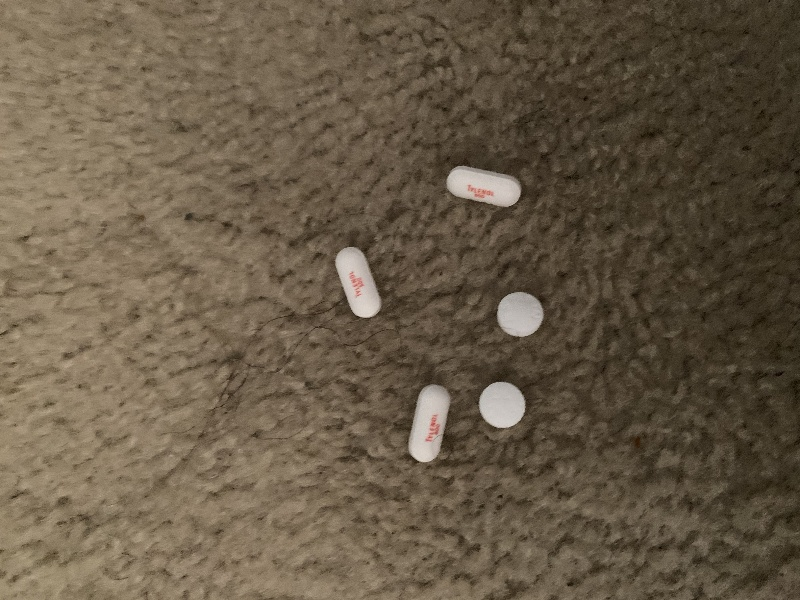Aspirin: (493, 289, 549, 339), (476, 379, 529, 431)
Tylenol: (404, 380, 454, 465), (443, 161, 524, 212), (332, 246, 386, 321)
